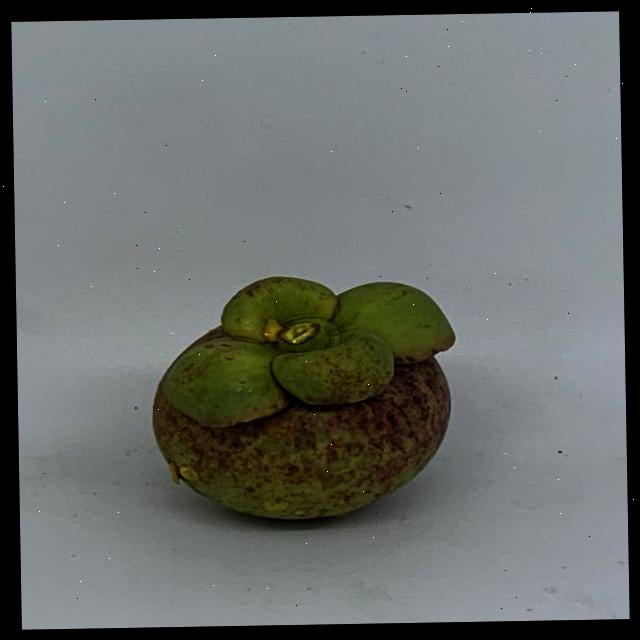mangosteen: (136, 240, 478, 520)
